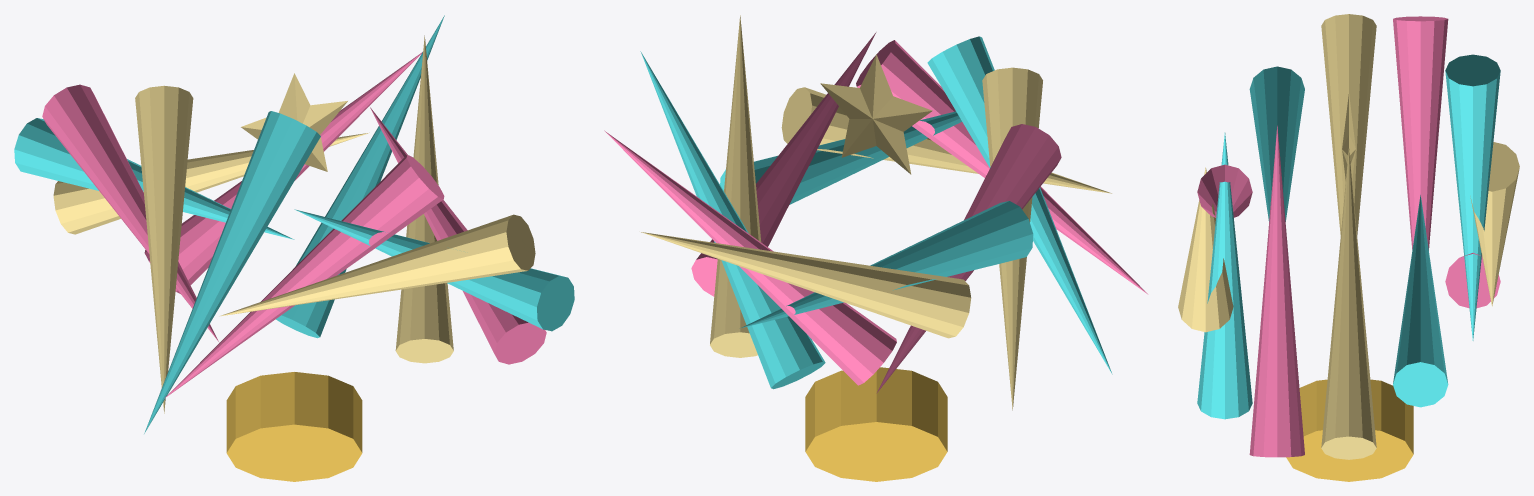
Rendered from minglora_fireworks.gltf.
The picture shows the model from 3 angles, left to right: view 1: azimuth 30°, elevation 25°; view 2: azimuth 150°, elevation 25°; view 3: azimuth 270°, elevation 25°; orthographic projection. The views are drawn at different scales.
Visible parts, largest first — view 1: minglora_fireworks_part_0, minglora_fireworks_part_6, minglora_fireworks_part_7, minglora_fireworks_part_4, minglora_fireworks_part_5, minglora_fireworks_part_8, minglora_fireworks_part_1, minglora_fireworks_part_3, minglora_fireworks_part_12, minglora_fireworks_part_10, minglora_fireworks_part_2, minglora_fireworks_part_9 (+2 smaller); view 2: minglora_fireworks_part_0, minglora_fireworks_part_10, minglora_fireworks_part_11, minglora_fireworks_part_12, minglora_fireworks_part_9, minglora_fireworks_part_6, minglora_fireworks_part_1, minglora_fireworks_part_5, minglora_fireworks_part_7, minglora_fireworks_part_2, minglora_fireworks_part_8, minglora_fireworks_part_13 (+2 smaller); view 3: minglora_fireworks_part_2, minglora_fireworks_part_1, minglora_fireworks_part_9, minglora_fireworks_part_8, minglora_fireworks_part_3, minglora_fireworks_part_7, minglora_fireworks_part_0, minglora_fireworks_part_12, minglora_fireworks_part_6, minglora_fireworks_part_4, minglora_fireworks_part_10, minglora_fireworks_part_5 (+2 smaller).
Boxes of the visible parts, x1=… form: minglora_fireworks_part_0: x1=226, y1=372, x2=362, y2=481; minglora_fireworks_part_6: x1=144, y1=111, x2=320, y2=433; minglora_fireworks_part_7: x1=135, y1=85, x2=193, y2=413; minglora_fireworks_part_4: x1=220, y1=214, x2=535, y2=316; minglora_fireworks_part_5: x1=164, y1=154, x2=444, y2=398; minglora_fireworks_part_8: x1=42, y1=84, x2=219, y2=342; minglora_fireworks_part_1: x1=395, y1=35, x2=453, y2=363; minglora_fireworks_part_3: x1=294, y1=209, x2=574, y2=331; minglora_fireworks_part_12: x1=276, y1=15, x2=444, y2=338; minglora_fireworks_part_10: x1=53, y1=132, x2=369, y2=234; minglora_fireworks_part_2: x1=370, y1=107, x2=546, y2=364; minglora_fireworks_part_9: x1=14, y1=118, x2=294, y2=239; minglora_fireworks_part_0: x1=805, y1=367, x2=947, y2=481; minglora_fireworks_part_10: x1=641, y1=232, x2=971, y2=338; minglora_fireworks_part_11: x1=604, y1=130, x2=896, y2=385; minglora_fireworks_part_12: x1=640, y1=51, x2=825, y2=389; minglora_fireworks_part_9: x1=740, y1=201, x2=1033, y2=328; minglora_fireworks_part_6: x1=927, y1=36, x2=1112, y2=374; minglora_fireworks_part_1: x1=710, y1=15, x2=761, y2=357; minglora_fireworks_part_5: x1=856, y1=40, x2=1148, y2=294; minglora_fireworks_part_7: x1=982, y1=67, x2=1042, y2=410; minglora_fireworks_part_2: x1=691, y1=32, x2=876, y2=296; minglora_fireworks_part_8: x1=876, y1=124, x2=1061, y2=393; minglora_fireworks_part_13: x1=820, y1=54, x2=932, y2=174; minglora_fireworks_part_2: x1=1249, y1=125, x2=1304, y2=457; minglora_fireworks_part_1: x1=1321, y1=149, x2=1376, y2=459; minglora_fireworks_part_9: x1=1445, y1=54, x2=1500, y2=340; minglora_fireworks_part_8: x1=1393, y1=16, x2=1448, y2=250; minglora_fireworks_part_3: x1=1197, y1=132, x2=1252, y2=419; minglora_fireworks_part_7: x1=1321, y1=14, x2=1376, y2=235; minglora_fireworks_part_0: x1=1286, y1=379, x2=1413, y2=481; minglora_fireworks_part_12: x1=1393, y1=195, x2=1448, y2=407; minglora_fireworks_part_6: x1=1249, y1=66, x2=1304, y2=221; minglora_fireworks_part_4: x1=1178, y1=167, x2=1233, y2=332; minglora_fireworks_part_10: x1=1470, y1=142, x2=1519, y2=306; minglora_fireworks_part_5: x1=1197, y1=164, x2=1252, y2=217.
Bounding box in the file's own units: 2 × 1.76 × 1.48.
